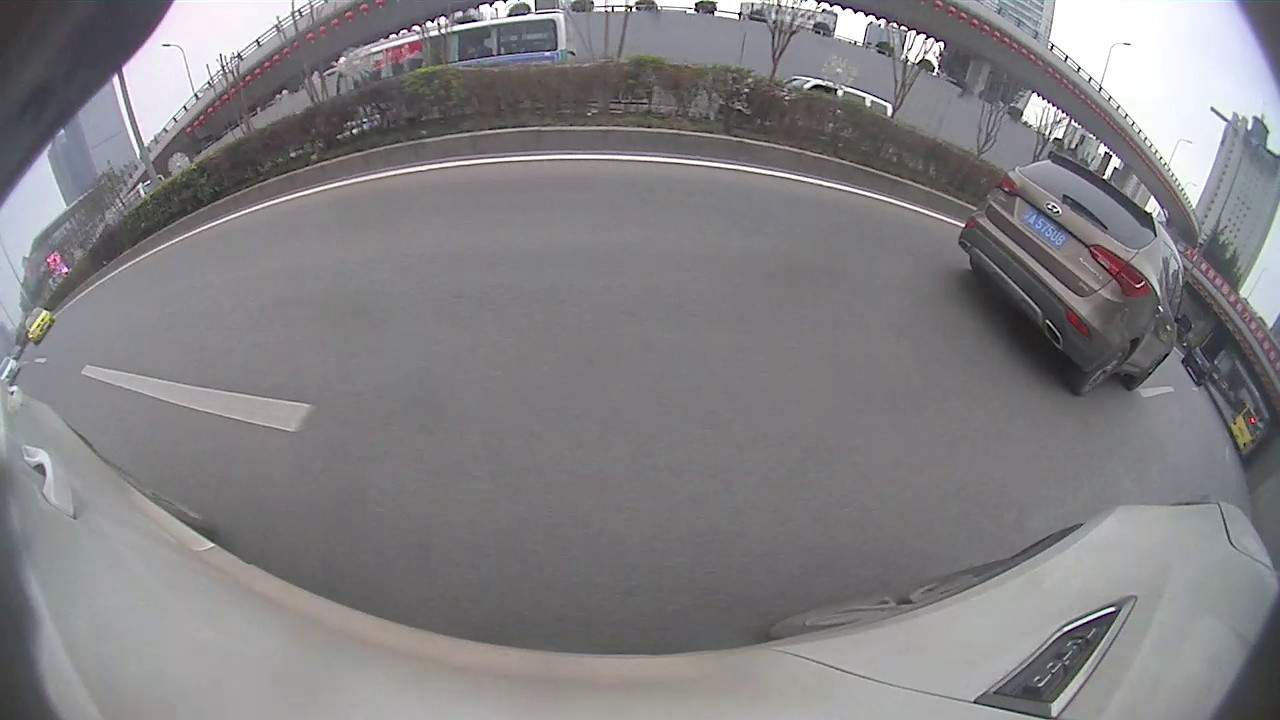car: (957, 150, 1181, 396), (1183, 346, 1215, 387), (21, 307, 54, 341)
front: (1136, 350, 1170, 392)
rear: (1078, 342, 1131, 395)
